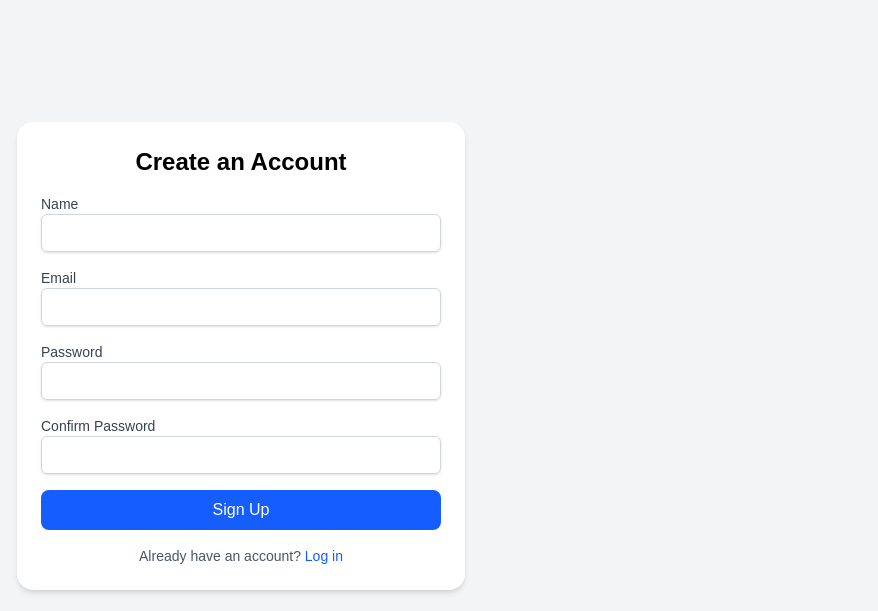
Test: Signup Page - Integration › should submit form with valid data and show success toast
This screenshot has width=878, height=611.
In the field labelled "Name": (241, 233) [41, 214, 441, 252], type "Test User"
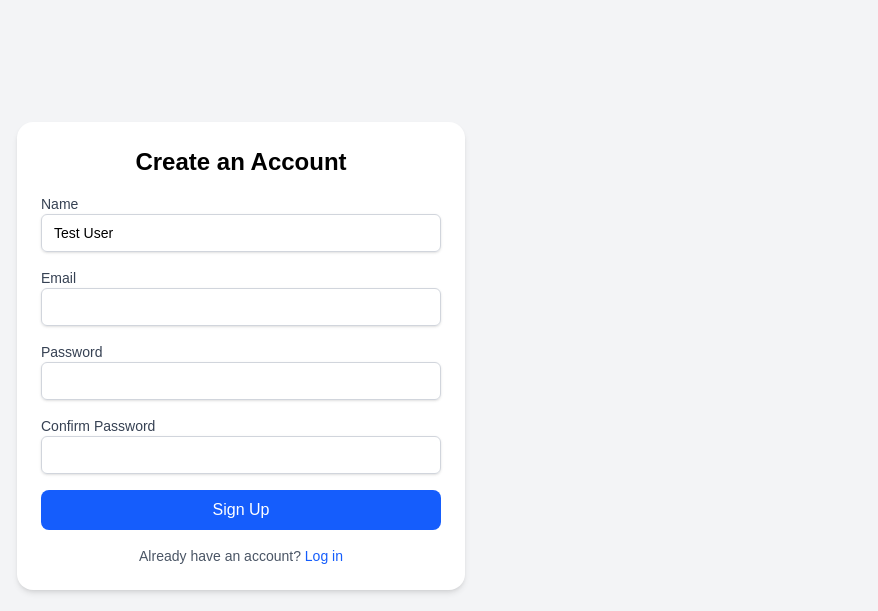
In the field labelled "Email": (241, 307) [41, 288, 441, 326], type "test@example.com"
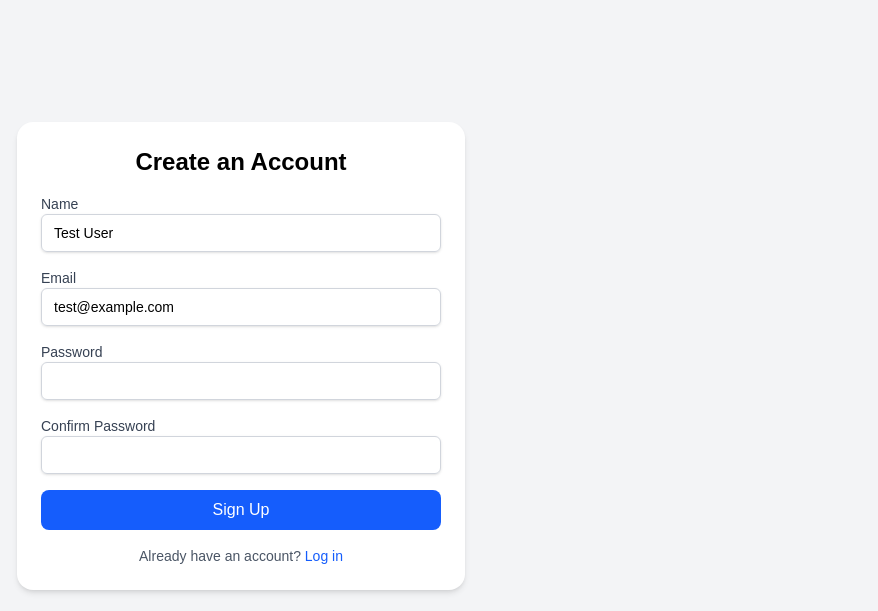
In the password field labelled "Password": (241, 381) [41, 362, 441, 400], type "password123"
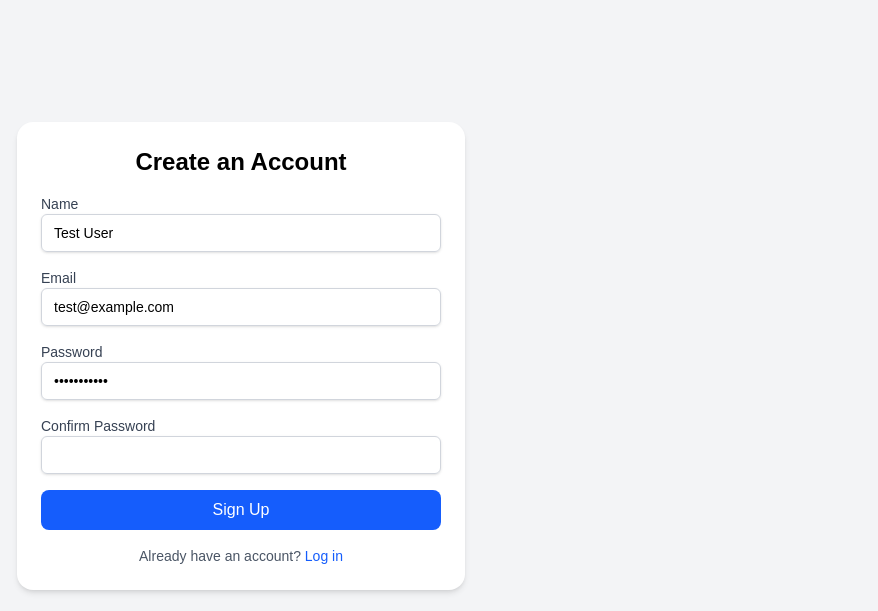
In the password field labelled "Confirm Password": (241, 455) [41, 436, 441, 474], type "password123"
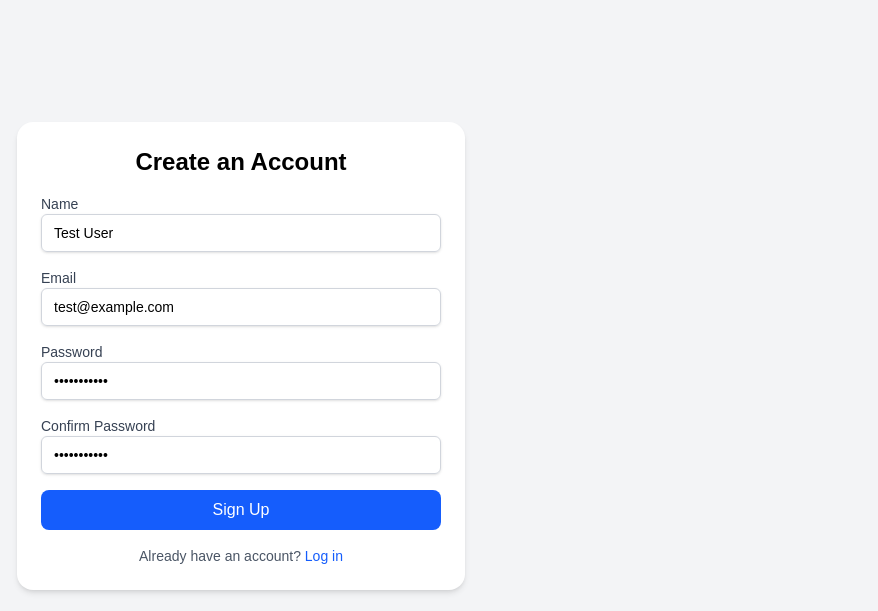
Click the button "Sign Up": (241, 510) [41, 490, 441, 530]
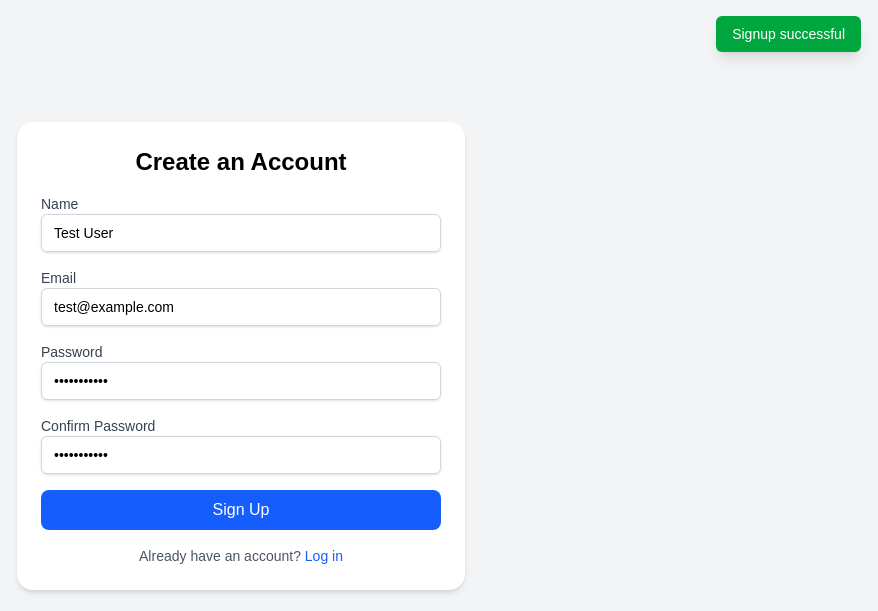
Check: the text "Signup successful" is shown, box [716, 16, 861, 52]
